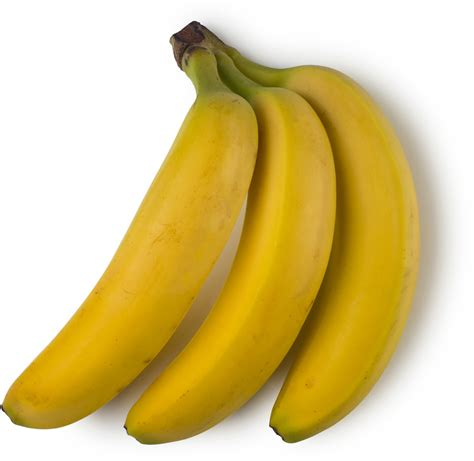banana: (1, 83, 263, 439), (121, 70, 343, 446), (265, 58, 425, 449)
